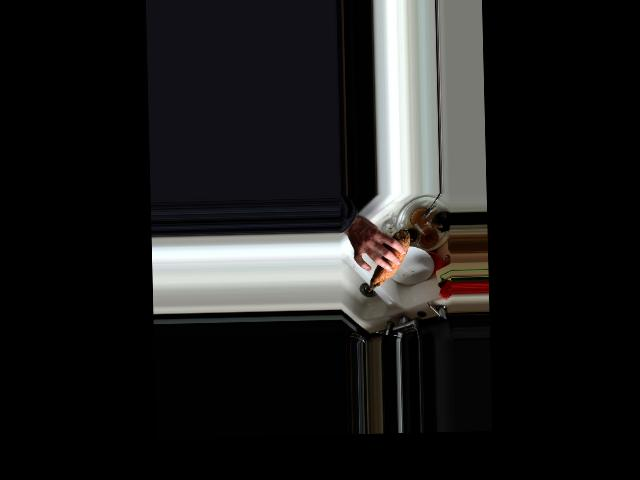sweet_potato: (366, 230, 411, 292)
